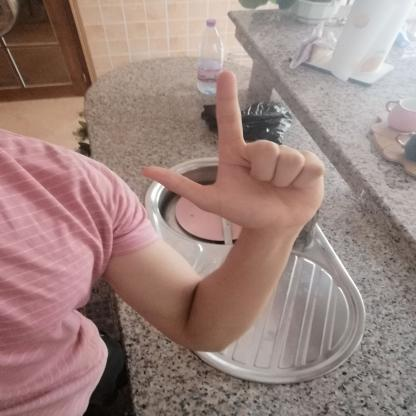LAAM: (128, 58, 335, 242)
